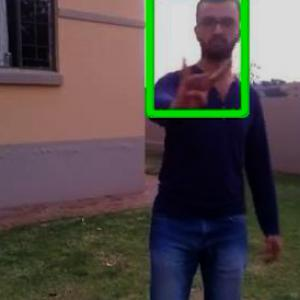takeoff-hand: (174, 44, 233, 119)
